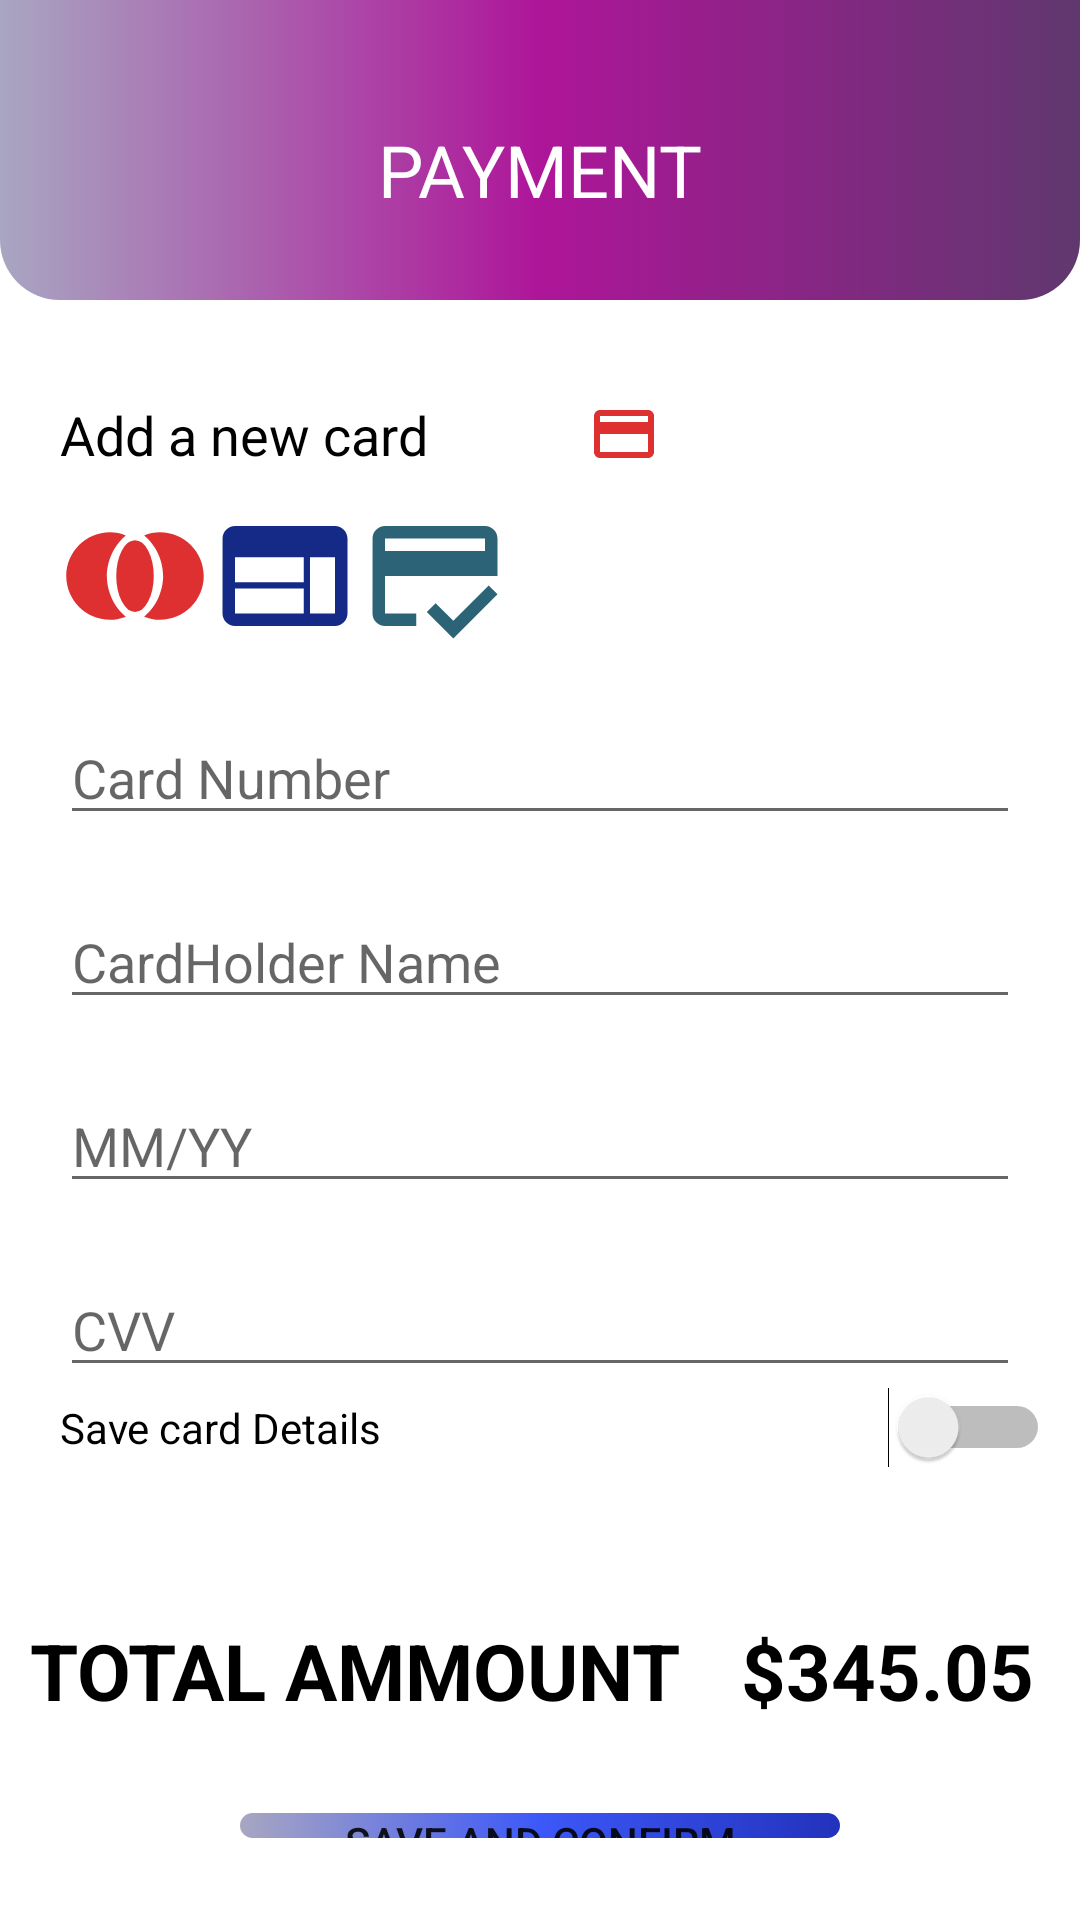

Named icons in this screenshot (1080w x 1920h) and their centers, (x,y):
credit score: (435,582)
join full: (135,576)
web: (285,576)
